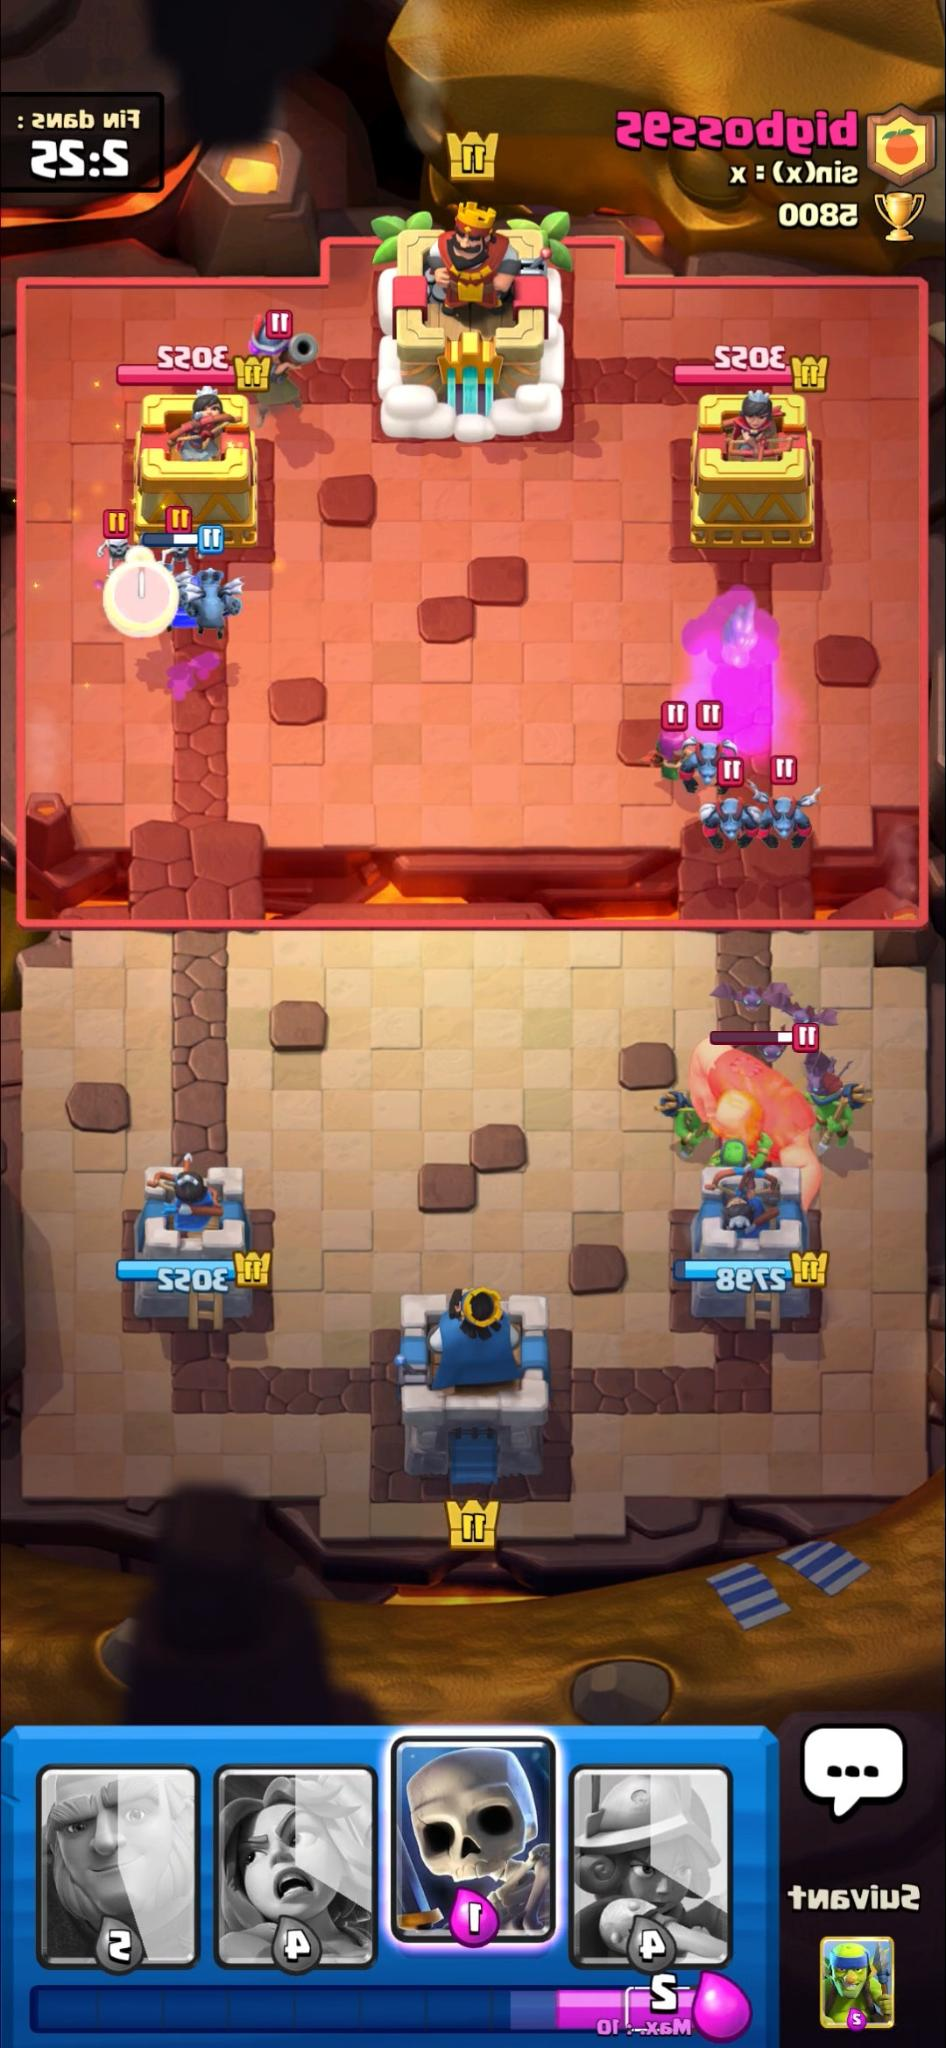archere: (640, 730, 689, 784)
bat: (707, 978, 784, 1019), (772, 1000, 839, 1041)
gargouille: (745, 785, 830, 854), (178, 566, 242, 639), (696, 784, 757, 854), (677, 737, 738, 789)
geant: (689, 1054, 811, 1172)
gobelin_lances: (800, 1076, 870, 1155), (700, 1128, 775, 1178)
mousquetaire: (242, 319, 310, 415)
squelette: (98, 525, 135, 568)
